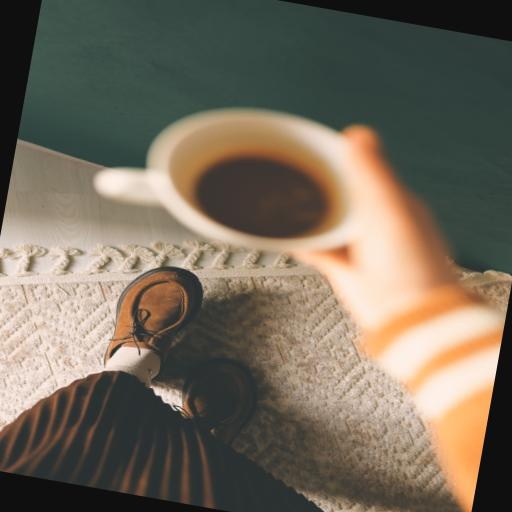shoe: (104, 267, 203, 369), (175, 359, 257, 445)
